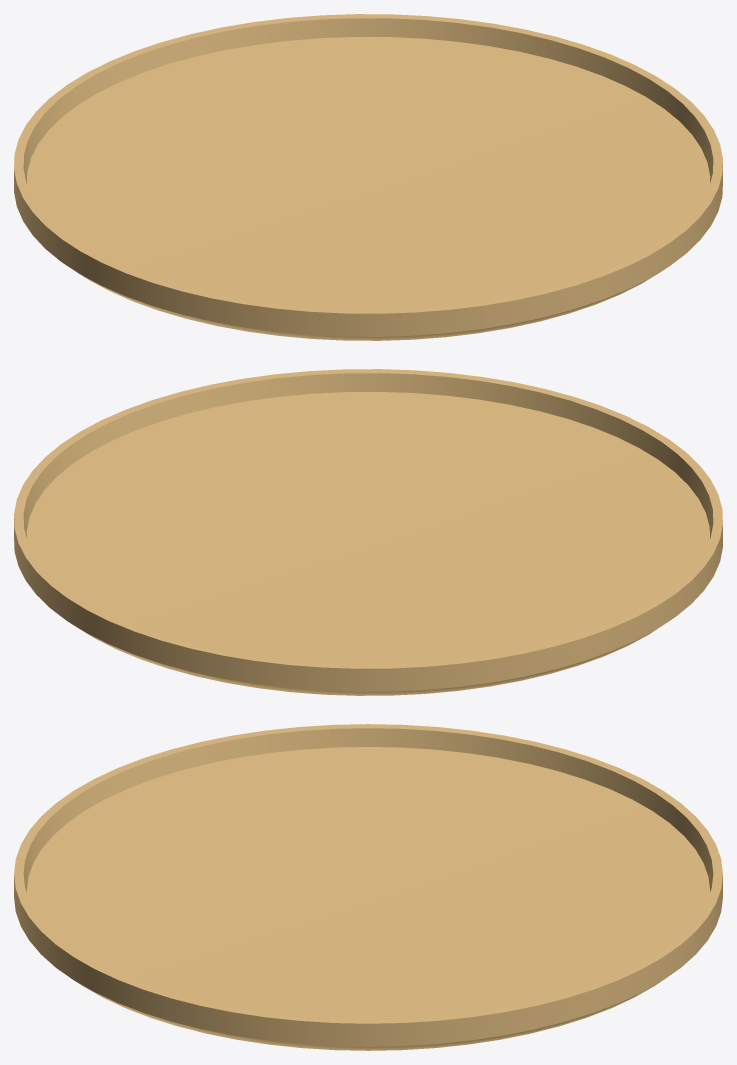
The model's file is JAC_24_Bandeja.glb.
The picture shows the model from 3 angles, top to bottom: view 1: azimuth 30°, elevation 25°; view 2: azimuth 150°, elevation 25°; view 3: azimuth 270°, elevation 25°; orthographic projection.
Visible parts, largest first — view 1: JAC_24_Bandeja; view 2: JAC_24_Bandeja; view 3: JAC_24_Bandeja.
Part boxes in pixels (x1,y1,x2,y2): JAC_24_Bandeja: (14, 14, 722, 340); JAC_24_Bandeja: (14, 369, 722, 695); JAC_24_Bandeja: (14, 724, 722, 1050).
Size of the model in its own units: 0.444 by 0.022 by 0.444.
